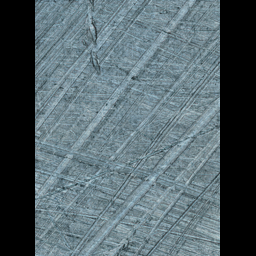d: (79, 0, 105, 77)
